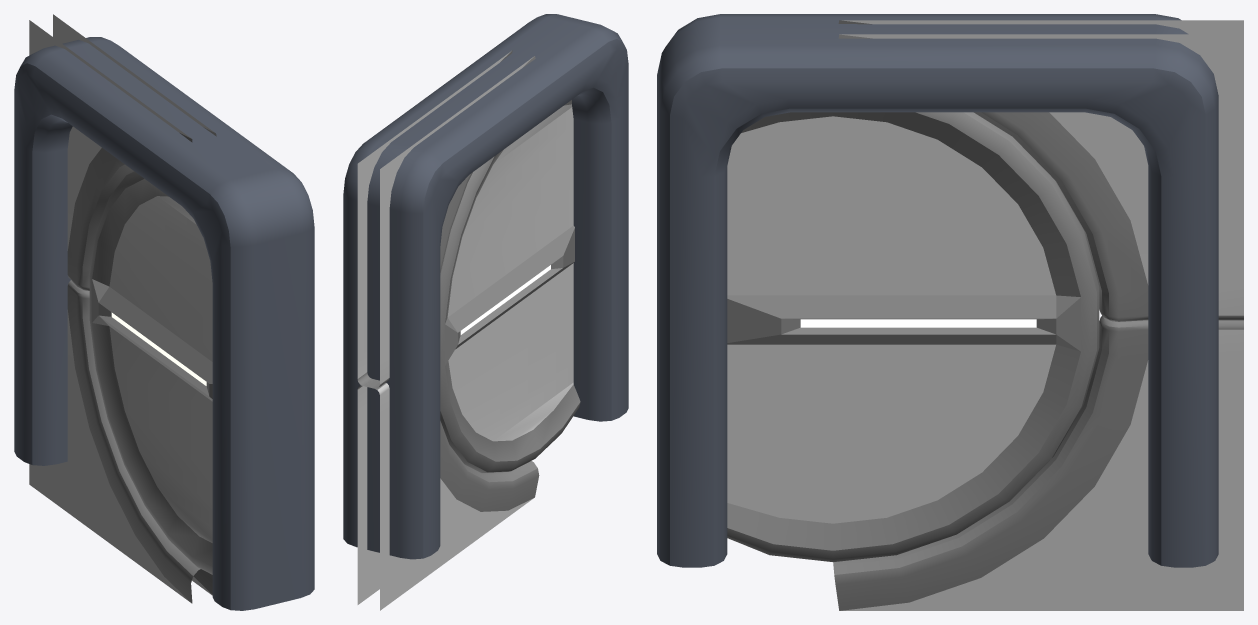
File: Door_Group.fbx
3 renders of one model, left to right at view 1: azimuth 30°, elevation 25°; view 2: azimuth 150°, elevation 25°; view 3: azimuth 270°, elevation 25°, orthographic. The views are drawn at different scales.
Visible parts, largest first — view 1: Door_Frame, Door_01, Door_03, Door_02; view 2: Door_Frame, Door_01, Door_03, Door_02; view 3: Door_01, Door_Frame, Door_03, Door_02.
Part boxes in pixels (<box>): Door_Frame: <box>14,37,314,610</box>; Door_01: <box>89,171,212,574</box>; Door_03: <box>29,280,212,603</box>; Door_02: <box>29,14,216,290</box>; Door_Frame: <box>343,14,628,559</box>; Door_01: <box>440,100,580,472</box>; Door_03: <box>357,380,539,610</box>; Door_02: <box>357,50,535,388</box>; Door_01: <box>727,112,1099,562</box>; Door_Frame: <box>657,14,1218,567</box>; Door_03: <box>833,316,1243,610</box>; Door_02: <box>838,20,1243,321</box>.
Bounding box in the file's own units: 196 × 971 × 896.
